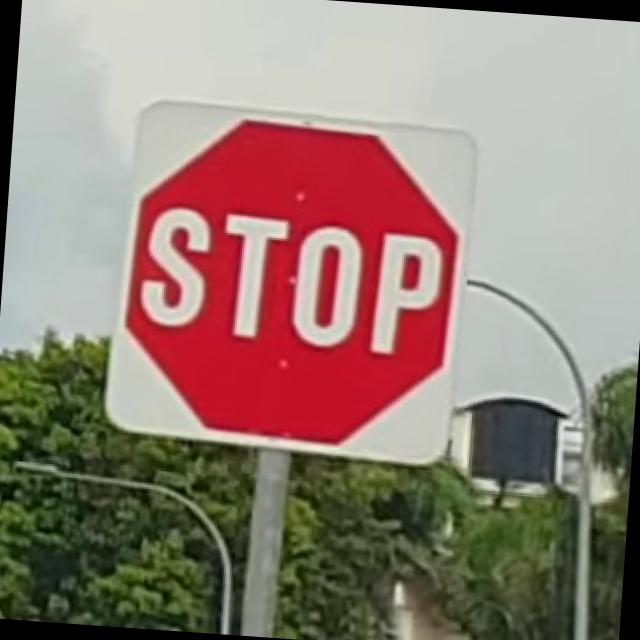mandatorystop_sign: (95, 89, 482, 472)
